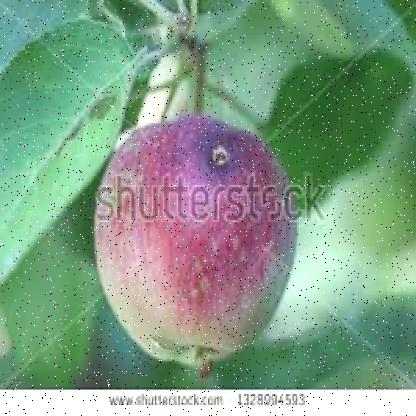damaged_apple: (97, 119, 297, 361)
